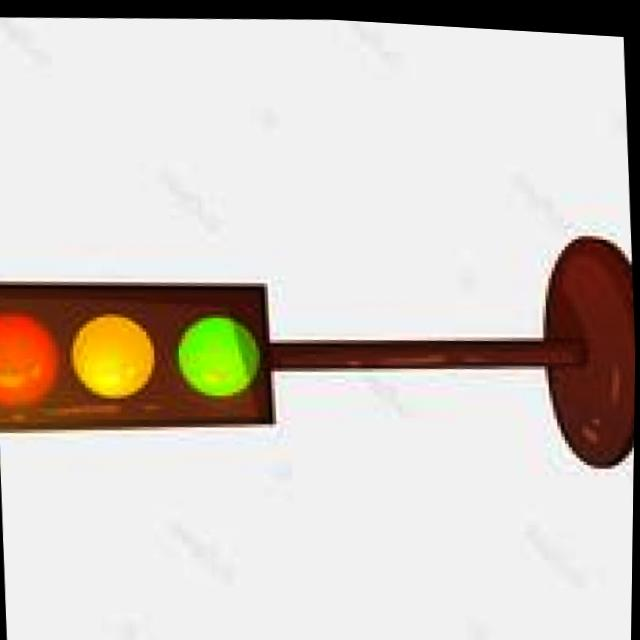green_light: (154, 200, 282, 443)
red_light: (0, 270, 69, 434)
yellow_light: (62, 242, 177, 453)
